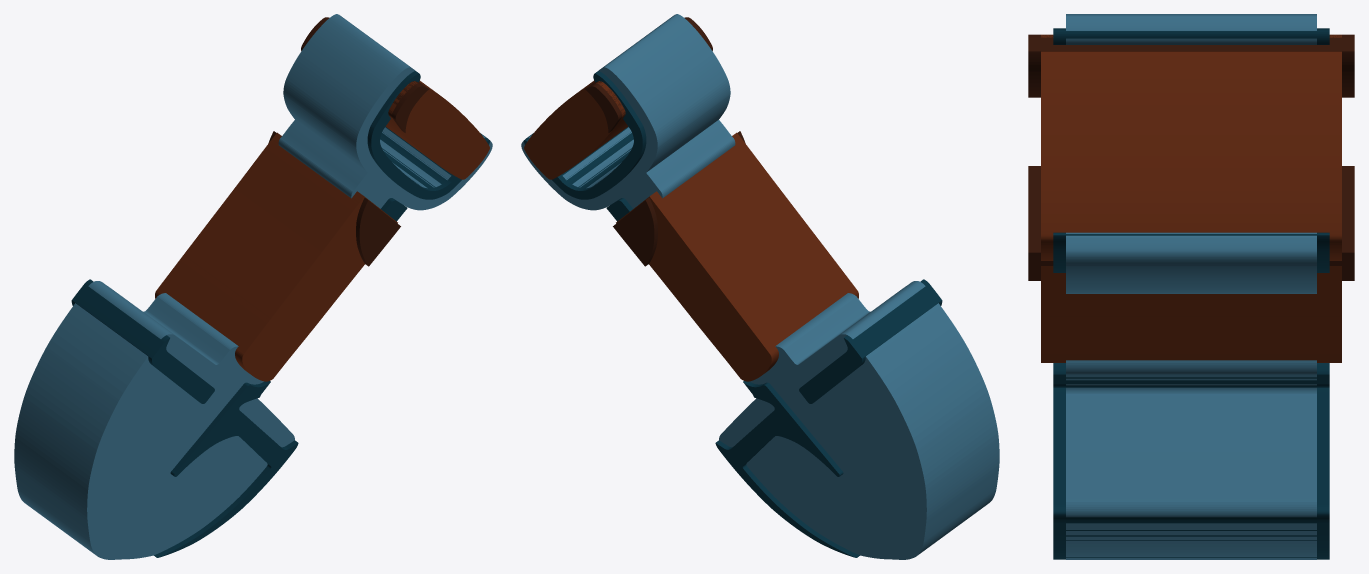
3 renders of one model, left to right at view 1: azimuth 30°, elevation 25°; view 2: azimuth 150°, elevation 25°; view 3: azimuth 270°, elevation 25°, orthographic. The views are drawn at different scales.
Visible parts, largest first — view 1: U+1FA8F_layer00_obj00, U+1FA8F_layer02_obj01, U+1FA8F_layer00_obj01, U+1FA8F_layer01_obj00, U+1FA8F_layer02_obj00, U+1FA8F_layer01_obj01, U+1FA8F_layer03_obj00, U+1FA8F_layer03_obj01; view 2: U+1FA8F_layer00_obj00, U+1FA8F_layer02_obj01, U+1FA8F_layer00_obj01, U+1FA8F_layer01_obj00, U+1FA8F_layer02_obj00, U+1FA8F_layer01_obj01, U+1FA8F_layer03_obj00, U+1FA8F_layer03_obj01; view 3: U+1FA8F_layer02_obj00, U+1FA8F_layer00_obj00, U+1FA8F_layer02_obj01, U+1FA8F_layer00_obj01, U+1FA8F_layer01_obj00, U+1FA8F_layer01_obj01, U+1FA8F_layer03_obj01, U+1FA8F_layer03_obj00.
Part boxes in pixels (x1=…): U+1FA8F_layer00_obj00: x1=14, y1=281, x2=294, y2=559; U+1FA8F_layer02_obj01: x1=155, y1=132, x2=397, y2=381; U+1FA8F_layer00_obj01: x1=278, y1=14, x2=492, y2=210; U+1FA8F_layer01_obj00: x1=71, y1=279, x2=298, y2=557; U+1FA8F_layer02_obj00: x1=386, y1=80, x2=489, y2=179; U+1FA8F_layer01_obj01: x1=367, y1=71, x2=490, y2=221; U+1FA8F_layer03_obj00: x1=268, y1=131, x2=400, y2=266; U+1FA8F_layer03_obj01: x1=301, y1=17, x2=428, y2=132; U+1FA8F_layer00_obj00: x1=719, y1=281, x2=999, y2=559; U+1FA8F_layer02_obj01: x1=616, y1=132, x2=858, y2=381; U+1FA8F_layer00_obj01: x1=521, y1=14, x2=735, y2=210; U+1FA8F_layer01_obj00: x1=715, y1=279, x2=942, y2=557; U+1FA8F_layer02_obj00: x1=524, y1=80, x2=627, y2=179; U+1FA8F_layer01_obj01: x1=523, y1=71, x2=646, y2=221; U+1FA8F_layer03_obj00: x1=613, y1=131, x2=745, y2=266; U+1FA8F_layer03_obj01: x1=585, y1=17, x2=712, y2=132; U+1FA8F_layer02_obj00: x1=1041, y1=34, x2=1341, y2=260; U+1FA8F_layer00_obj00: x1=1066, y1=360, x2=1316, y2=559; U+1FA8F_layer02_obj01: x1=1041, y1=266, x2=1341, y2=362; U+1FA8F_layer00_obj01: x1=1066, y1=14, x2=1316, y2=293; U+1FA8F_layer01_obj00: x1=1053, y1=363, x2=1329, y2=559; U+1FA8F_layer01_obj01: x1=1053, y1=28, x2=1329, y2=272; U+1FA8F_layer03_obj01: x1=1028, y1=34, x2=1354, y2=97; U+1FA8F_layer03_obj00: x1=1028, y1=166, x2=1354, y2=280.
Size of the model in its own units: 0.3215 by 0.3227 by 0.13.
